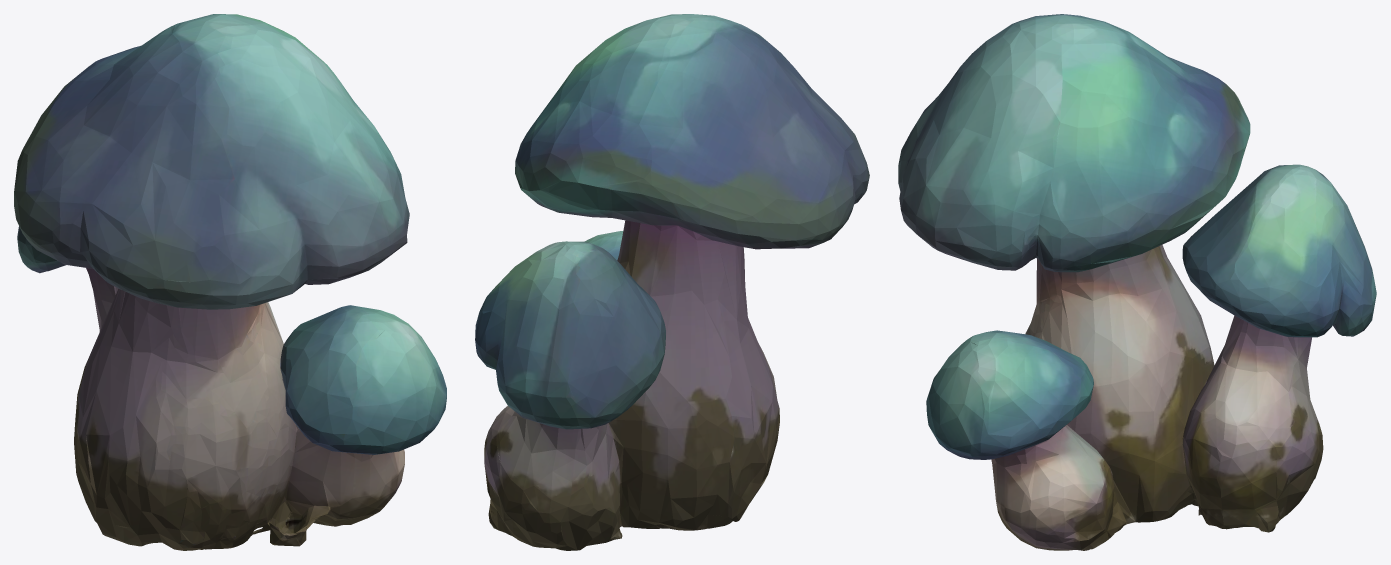
File: swamp_mushroom.glb
3 views of the same model, side by side, from view 1: azimuth 30°, elevation 25°; view 2: azimuth 150°, elevation 25°; view 3: azimuth 270°, elevation 25° (orthographic). The views are drawn at different scales.
Visible parts, largest first — view 1: world; view 2: world; view 3: world.
Part boxes in pixels (bbox=[...]): world: bbox=[14, 14, 446, 550]; world: bbox=[475, 14, 869, 550]; world: bbox=[898, 14, 1376, 550].
Bounding box in the file's own units: 0.7506 × 0.9982 × 0.9212.
1 material, 1 textured.
